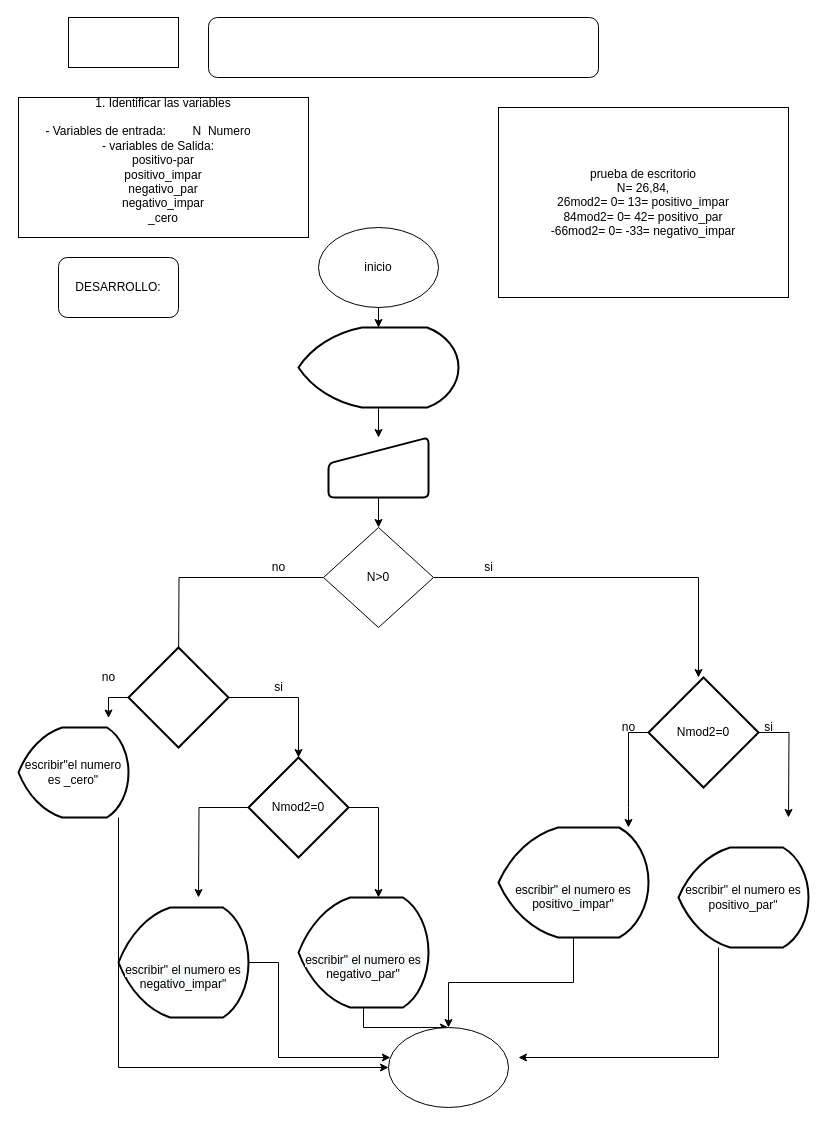
Some shapes in this 826 by 1125 pixel diagram are drawn without their labels. Here are the shapes that lost their labels. From the top down, the box of each, then its label:
(68, 16, 178, 68): Rodrigo Duran.
(208, 16, 598, 78): Correccion del Quiz
(297, 326, 459, 408): ingresar el Numero
(327, 436, 429, 498): leer(N)
(127, 646, 229, 748): N<0
(388, 1026, 508, 1108): fin
